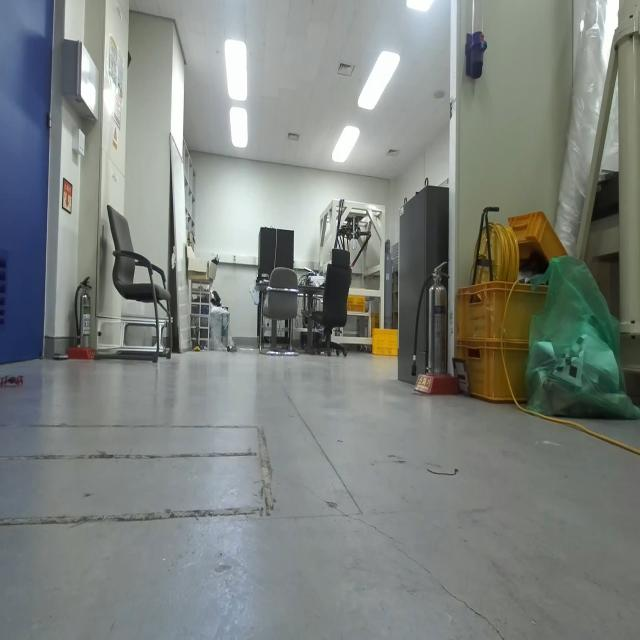crazyflie: (1, 370, 26, 394)
